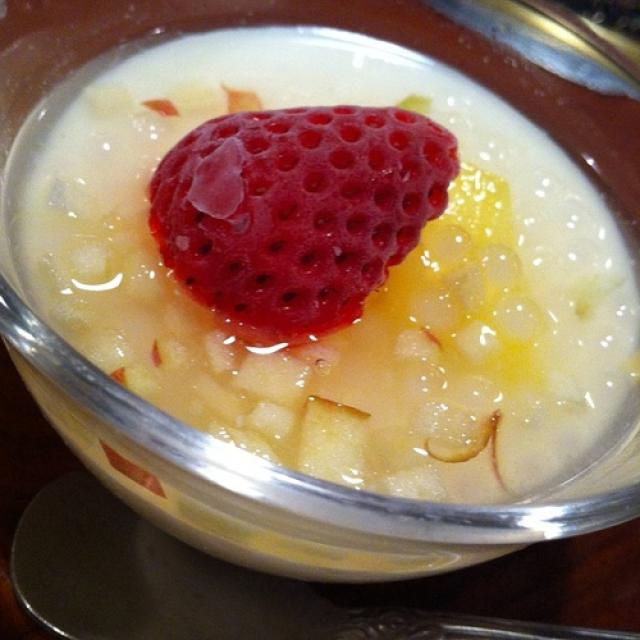面条主食: (194, 60, 548, 533)
